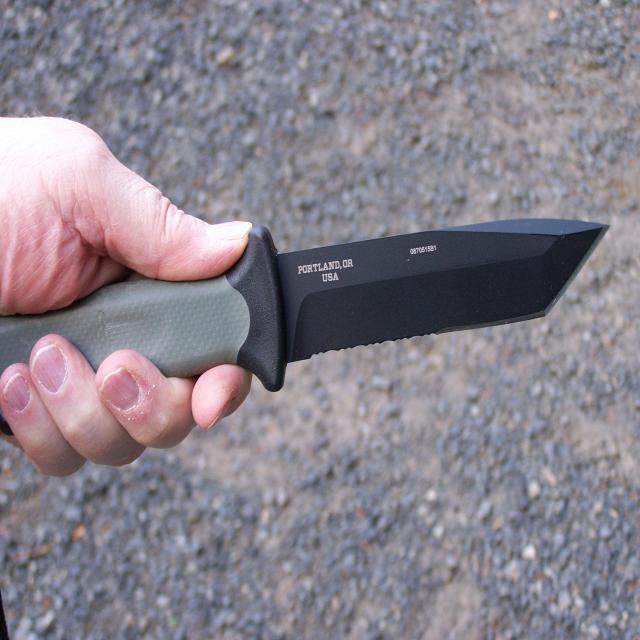knife: (10, 208, 614, 411)
